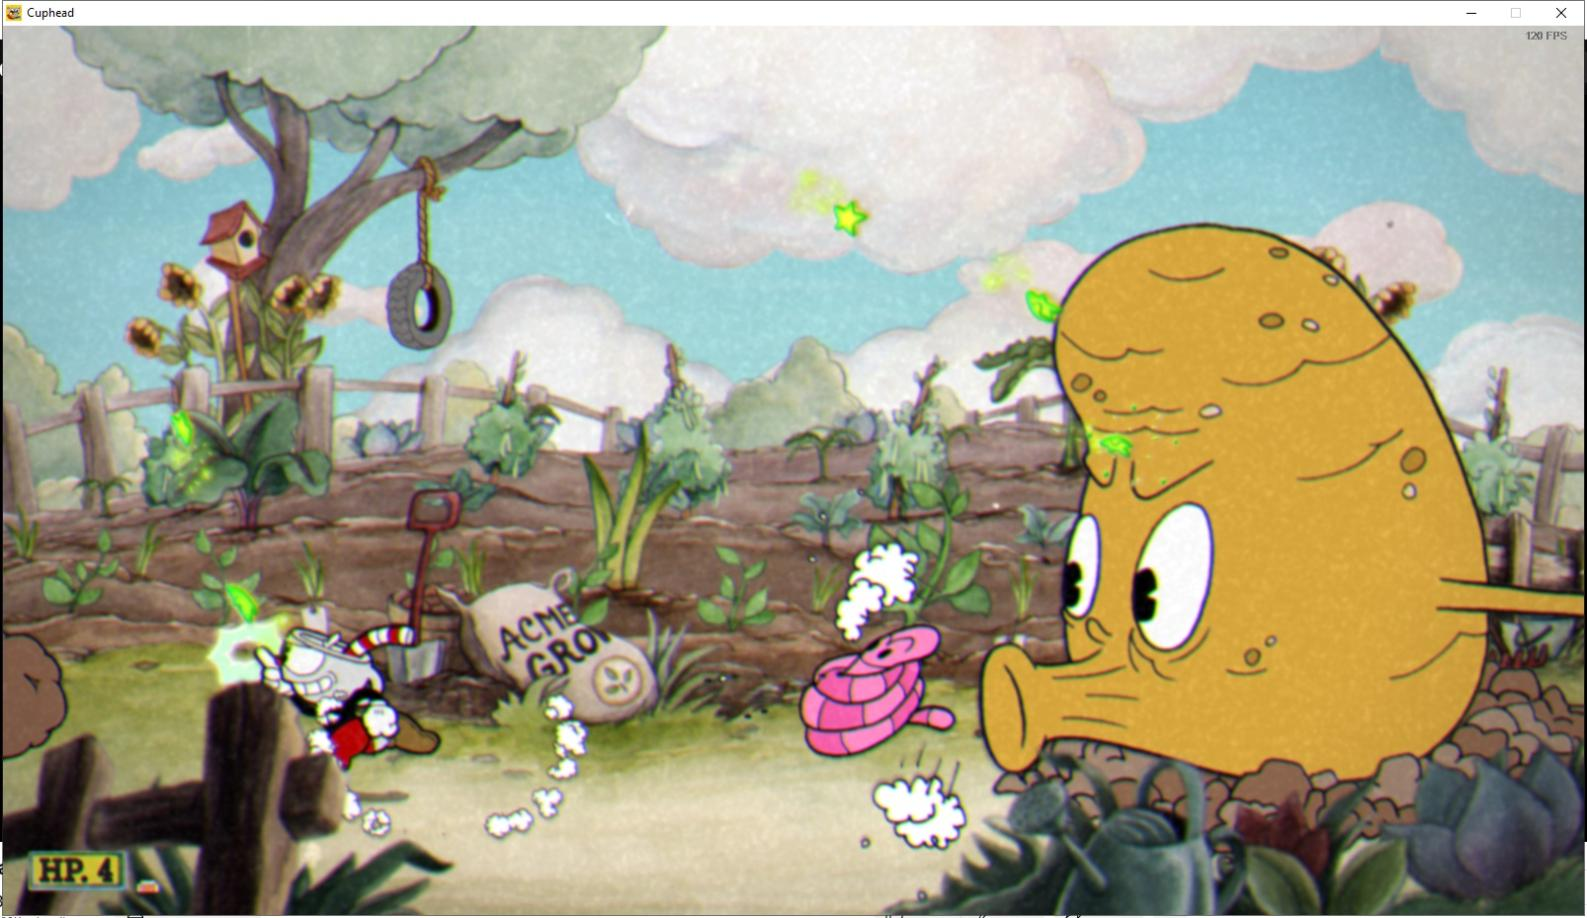dirt: (0, 625, 77, 767)
hp4: (91, 853, 124, 890)
player: (233, 612, 446, 808)
potato_boss: (967, 217, 1513, 797)
worm: (792, 620, 959, 763)
